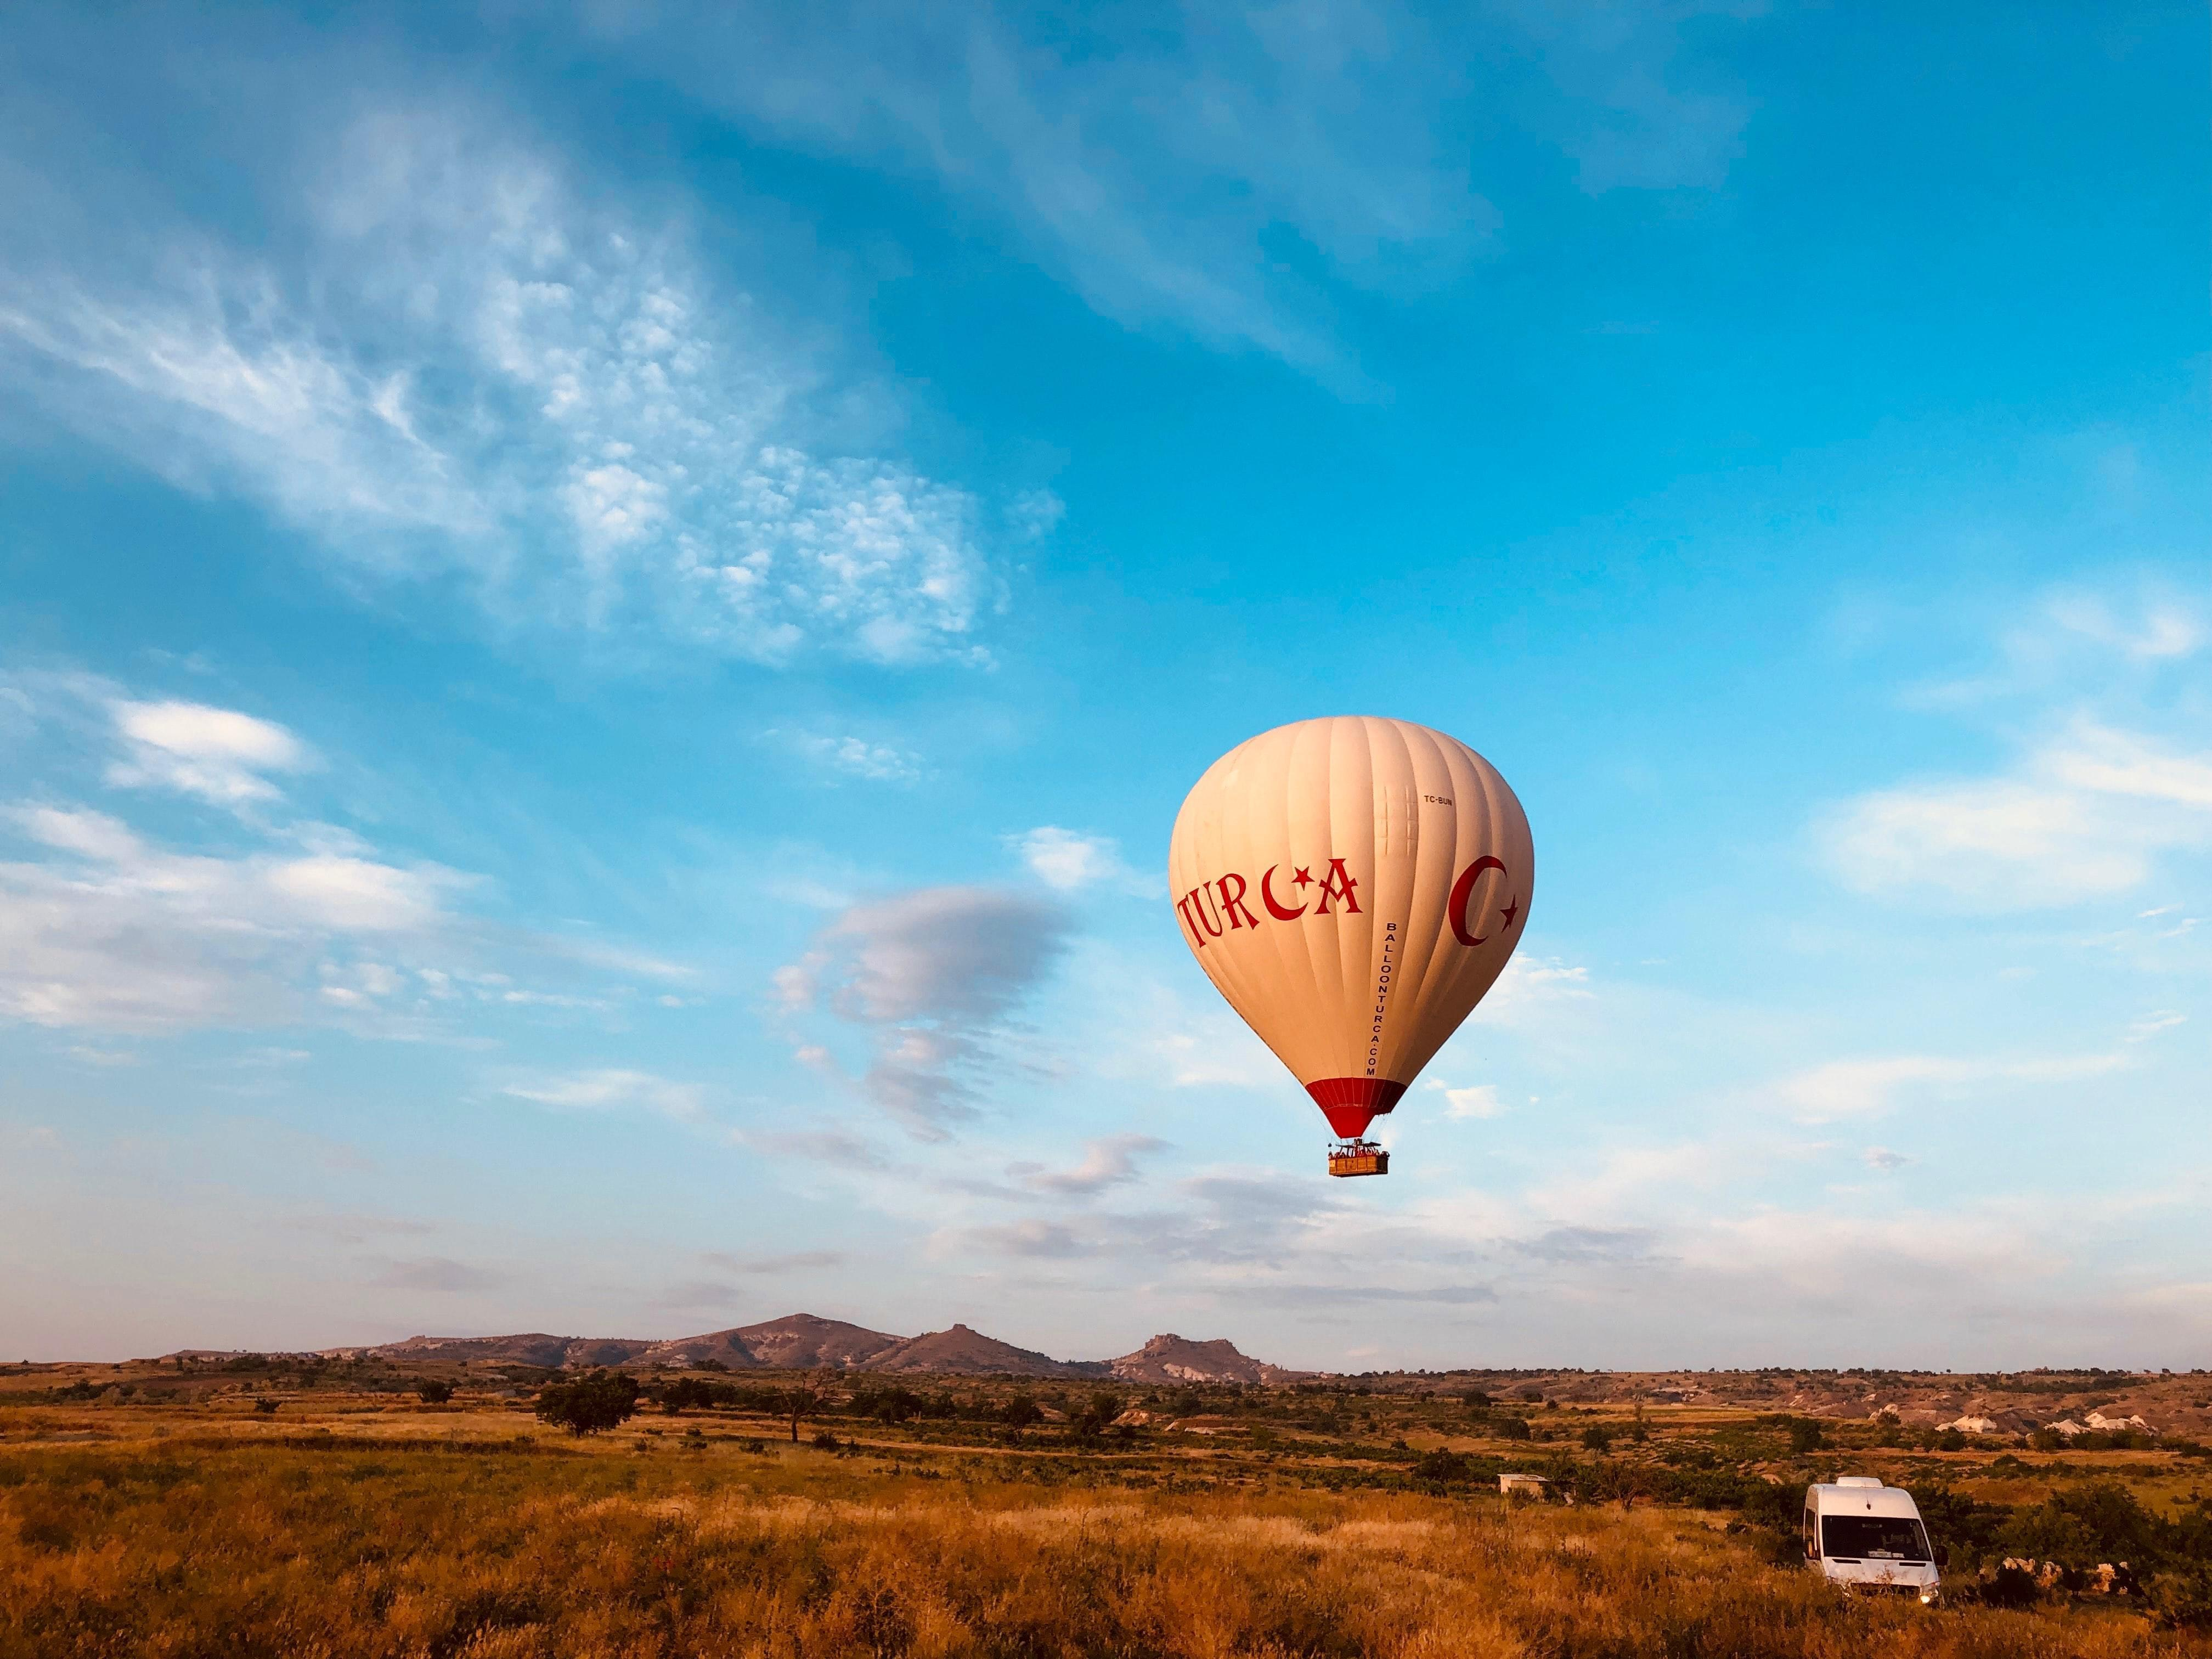hot air ballon: (1169, 718, 1534, 1178)
